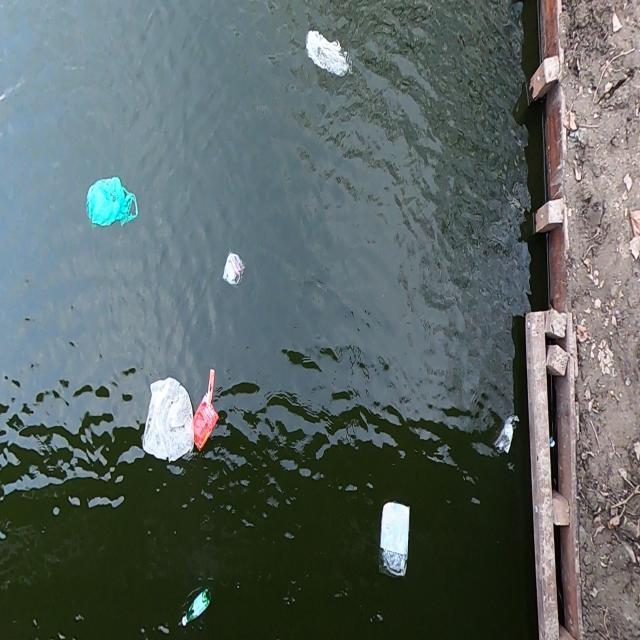Autre plastique: (193, 364, 219, 456)
Bouteille plastique: (179, 586, 215, 629)
Sac plastique: (140, 377, 195, 465), (78, 169, 140, 235), (301, 24, 358, 91), (375, 499, 414, 578), (495, 410, 520, 461), (221, 246, 246, 293)
